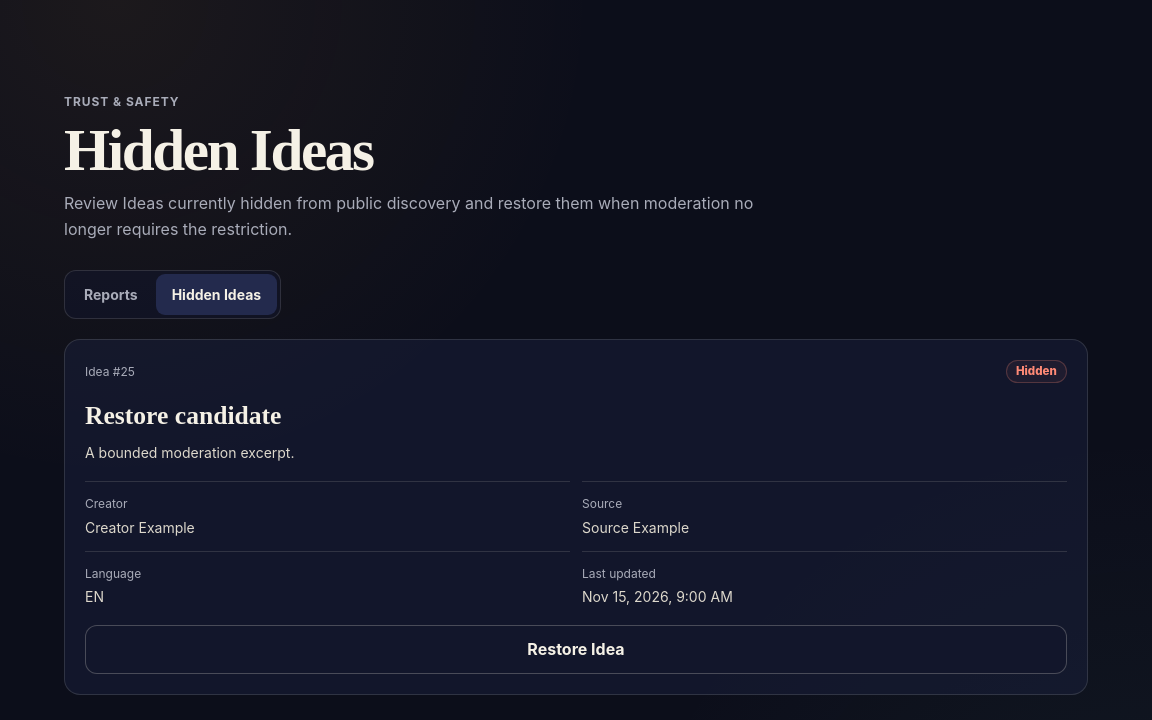
HiddenIdeasPage › restores a hidden Idea with an optional audit note and removes it after refetch
Expected: the heading "Restore candidate" is shown, [85, 401, 281, 430]
Click the button "Restore Idea": (576, 649) [85, 625, 1067, 674]
(page scrolled)
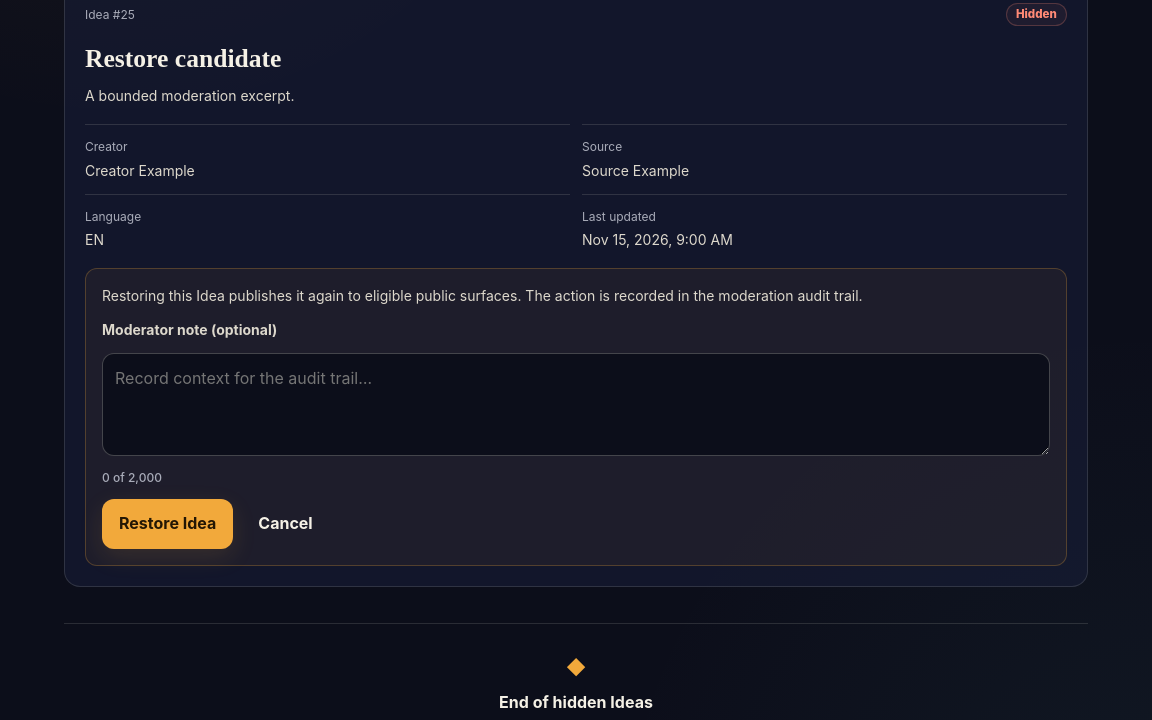
Expected: the text "Restoring this Idea publishes it again" is shown, [102, 287, 863, 304]
In the text box labelled "Moderator note (optional)": (576, 405) [102, 354, 1050, 456], type "  Reviewed and safe.  "
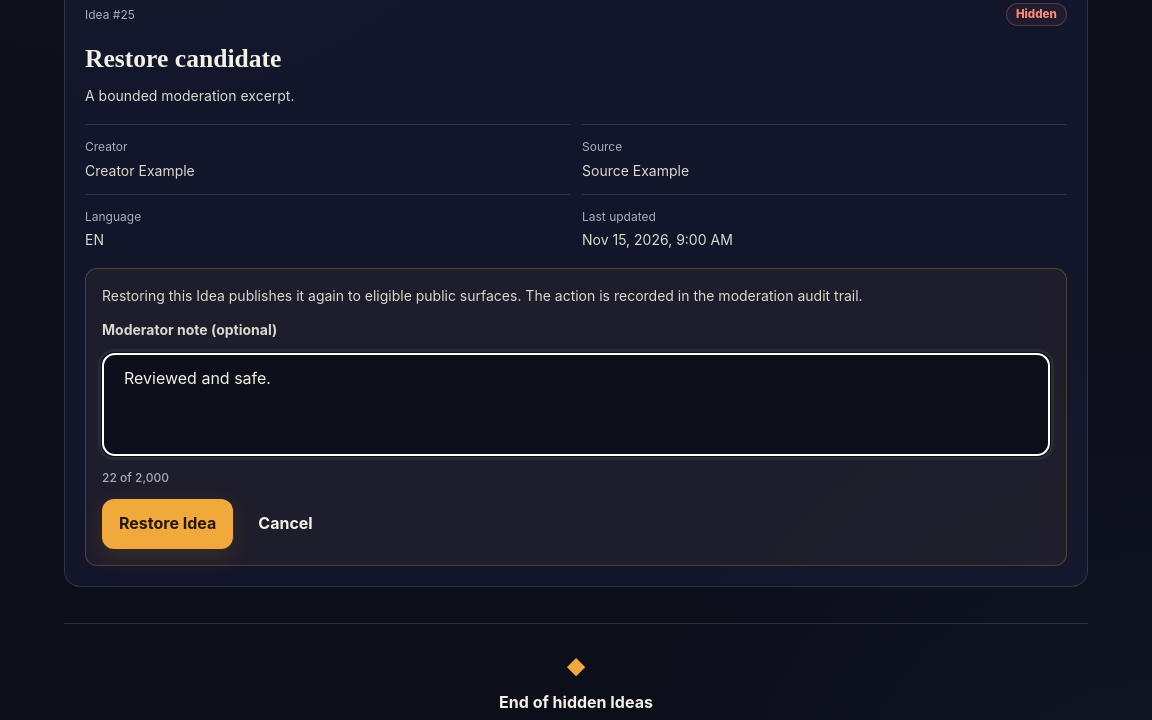
Click the button "Restore Idea": (168, 524) [102, 499, 233, 549]
(page scrolled)
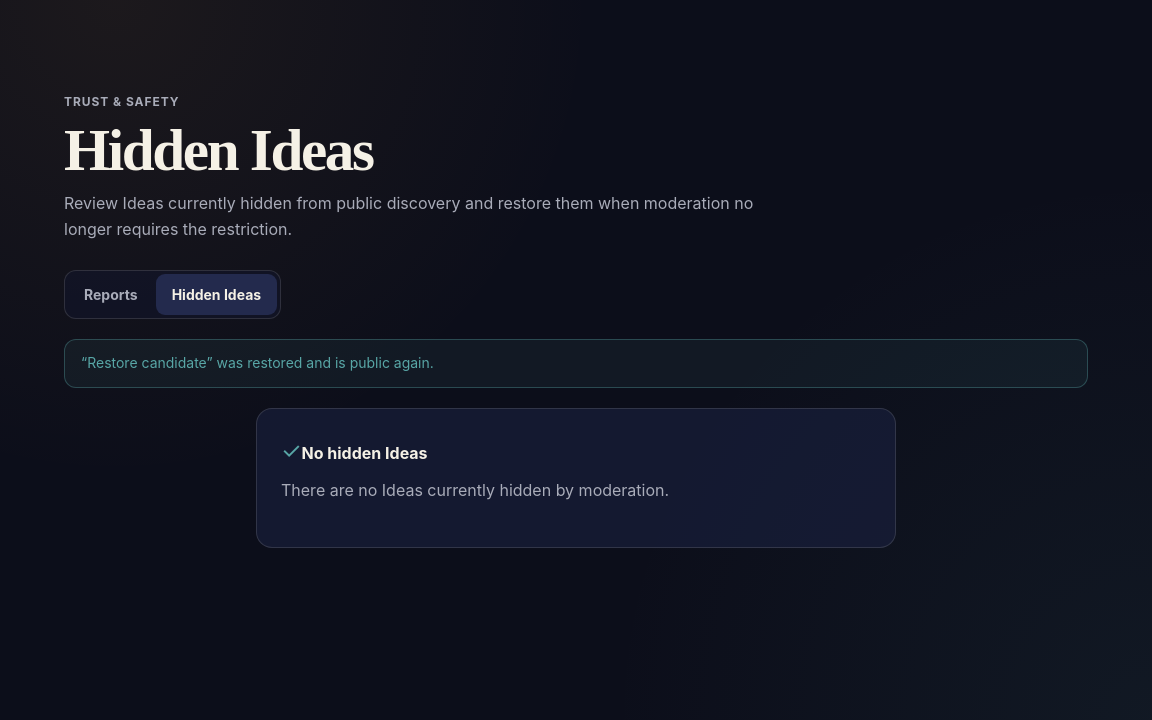
Expected: the message reads "“Restore candidate” was restored and is public again.", [81, 354, 434, 371]
Expected: the text "No hidden Ideas" is shown, [302, 443, 428, 463]
